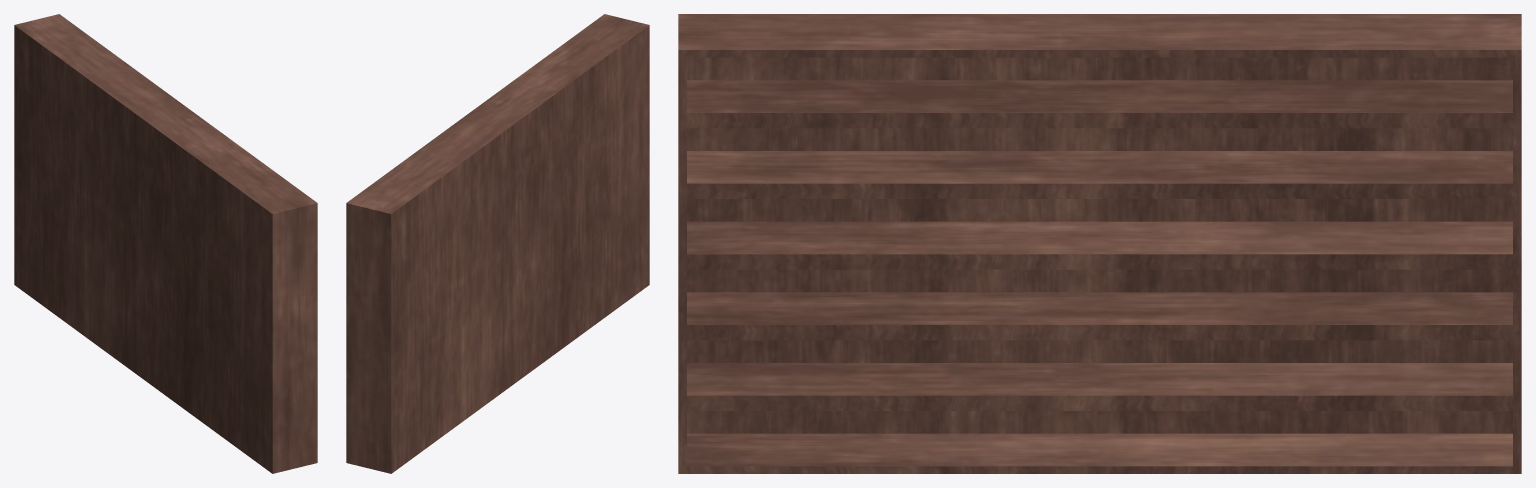
Rendered from 2023-05-20 Sherrifs_Shelf.fbx.
3 views of the same model, side by side, from view 1: azimuth 30°, elevation 25°; view 2: azimuth 150°, elevation 25°; view 3: azimuth 270°, elevation 25° (orthographic). The views are drawn at different scales.
Parts seen in each view (by area): view 1: Shelf; view 2: Shelf; view 3: Shelf.
Part boxes in pixels (x1,y1,x2,y2): Shelf: (14,14,317,473); Shelf: (346,14,649,473); Shelf: (678,14,1521,473).
Bounding box in the file's own units: 200 × 1100 × 1982.
